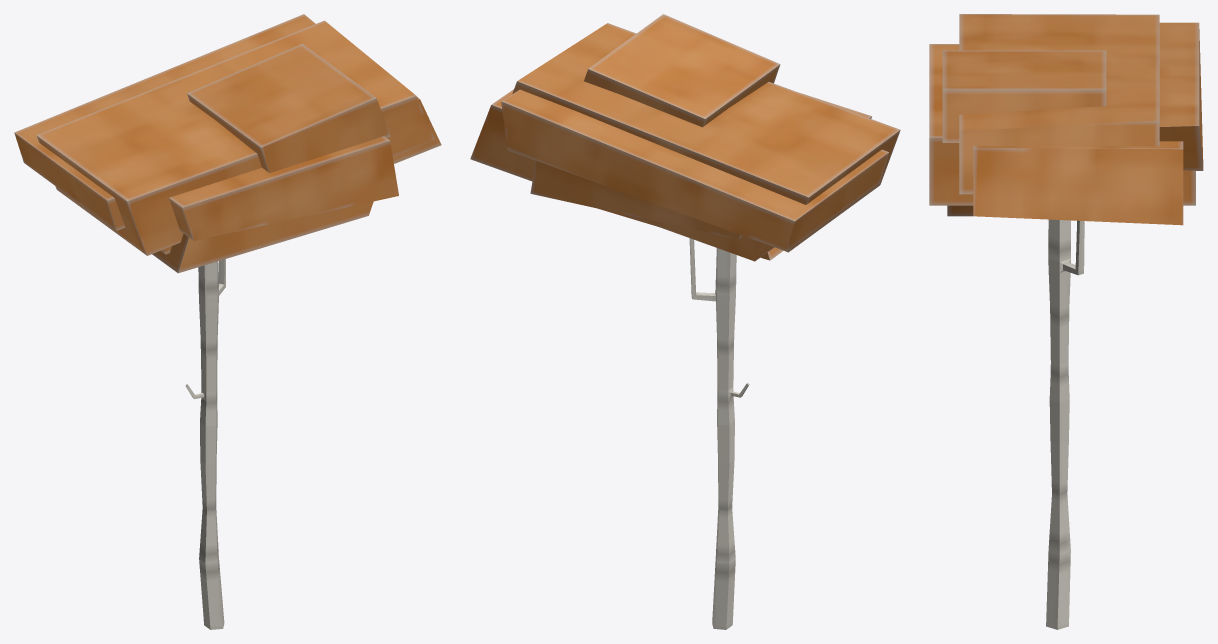
Rendered from tree_tall1_orange.fbx.
3 renders of one model, left to right at view 1: azimuth 30°, elevation 25°; view 2: azimuth 150°, elevation 25°; view 3: azimuth 270°, elevation 25°, orthographic. The views are drawn at different scales.
Parts seen in each view (by area): view 1: group7_3, group7_1, group7, group7_5, group7_4, pCube3, group7_2; view 2: group7_3, group7_5, group7_1, group7_4, group7, group7_2; view 3: group7_3, group7_2, group7_1, group7_4, group7_5, group7.
Part boxes in pixels (x1=…): group7_3: x1=36, y1=20, x2=434, y2=255; group7_1: x1=187, y1=44, x2=390, y2=172; group7: x1=169, y1=136, x2=398, y2=240; group7_5: x1=14, y1=14, x2=315, y2=230; group7_4: x1=185, y1=259, x2=225, y2=629; pCube3: x1=152, y1=201, x2=373, y2=273; group7_2: x1=161, y1=97, x2=441, y2=254; group7_3: x1=512, y1=23, x2=900, y2=252; group7_5: x1=501, y1=89, x2=888, y2=251; group7_1: x1=584, y1=14, x2=780, y2=127; group7_4: x1=689, y1=238, x2=749, y2=629; group7: x1=530, y1=93, x2=871, y2=239; group7_2: x1=470, y1=89, x2=774, y2=261; group7_3: x1=959, y1=14, x2=1159, y2=194; group7_2: x1=973, y1=141, x2=1183, y2=225; group7_1: x1=942, y1=50, x2=1106, y2=142; group7_4: x1=1046, y1=219, x2=1084, y2=629; group7_5: x1=1159, y1=22, x2=1203, y2=170; group7: x1=929, y1=44, x2=1195, y2=205.
Bounding box in the file's own units: 242 × 380 × 159.
Materials: 1 (1 with a texture image).
